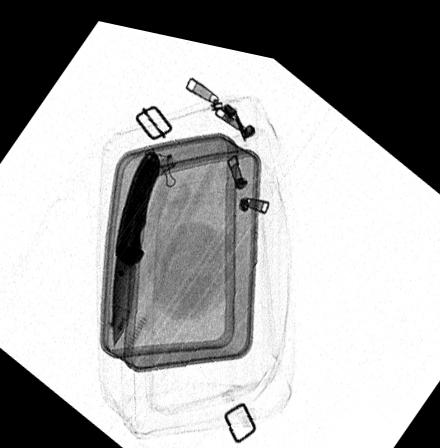Knife: (111, 143, 161, 341)
